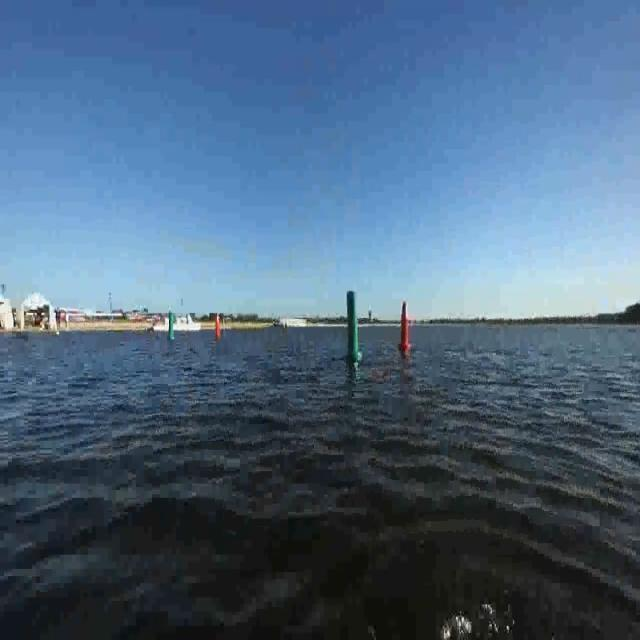green-column-buoy: (344, 288, 362, 361), (168, 310, 176, 339)
red-column-buoy: (399, 301, 413, 352), (215, 318, 221, 341)
